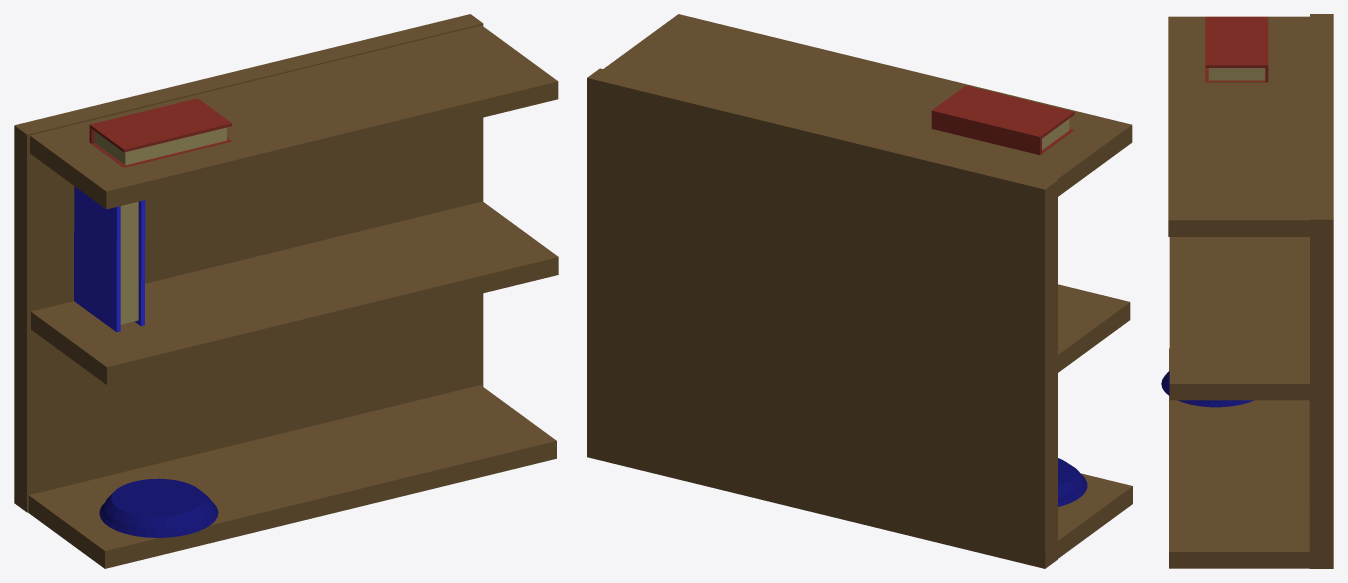
File: BookCase Group.fbx
The picture shows the model from 3 angles, left to right: view 1: azimuth 30°, elevation 25°; view 2: azimuth 150°, elevation 25°; view 3: azimuth 270°, elevation 25°; orthographic projection. The views are drawn at different scales.
Visible parts, largest first — view 1: WallBookcase, BookcaseShelf002, BookcaseShelf001, BookcaseShelf003, BookBlue, BookRed001, Frisby; view 2: WallBookcase, BookcaseShelf003, BookRed001, BookcaseShelf002, BookcaseShelf001, Frisby; view 3: BookcaseShelf003, BookcaseShelf001, BookcaseShelf002, WallBookcase, BookRed001, Frisby.
Part boxes in pixels (<box>): WallBookcase: <box>14,14,483,512</box>; BookcaseShelf002: <box>31,201,558,384</box>; BookcaseShelf001: <box>28,385,556,568</box>; BookcaseShelf003: <box>30,25,558,209</box>; BookBlue: <box>74,186,145,332</box>; BookRed001: <box>89,98,231,167</box>; Frisby: <box>99,478,218,537</box>; WallBookcase: <box>587,68,1057,568</box>; BookcaseShelf003: <box>603,14,1132,196</box>; BookRed001: <box>931,85,1074,154</box>; BookcaseShelf002: <box>1058,284,1130,372</box>; BookcaseShelf001: <box>1058,473,1132,558</box>; Frisby: <box>1058,458,1087,506</box>; BookcaseShelf003: <box>1168,16,1309,236</box>; BookcaseShelf001: <box>1169,348,1309,568</box>; BookcaseShelf002: <box>1169,237,1309,400</box>; WallBookcase: <box>1309,14,1333,568</box>; BookRed001: <box>1205,16,1268,82</box>; Frisby: <box>1161,371,1253,407</box>.
Size of the model in its own units: 82.9 by 68.67 by 29.34.
